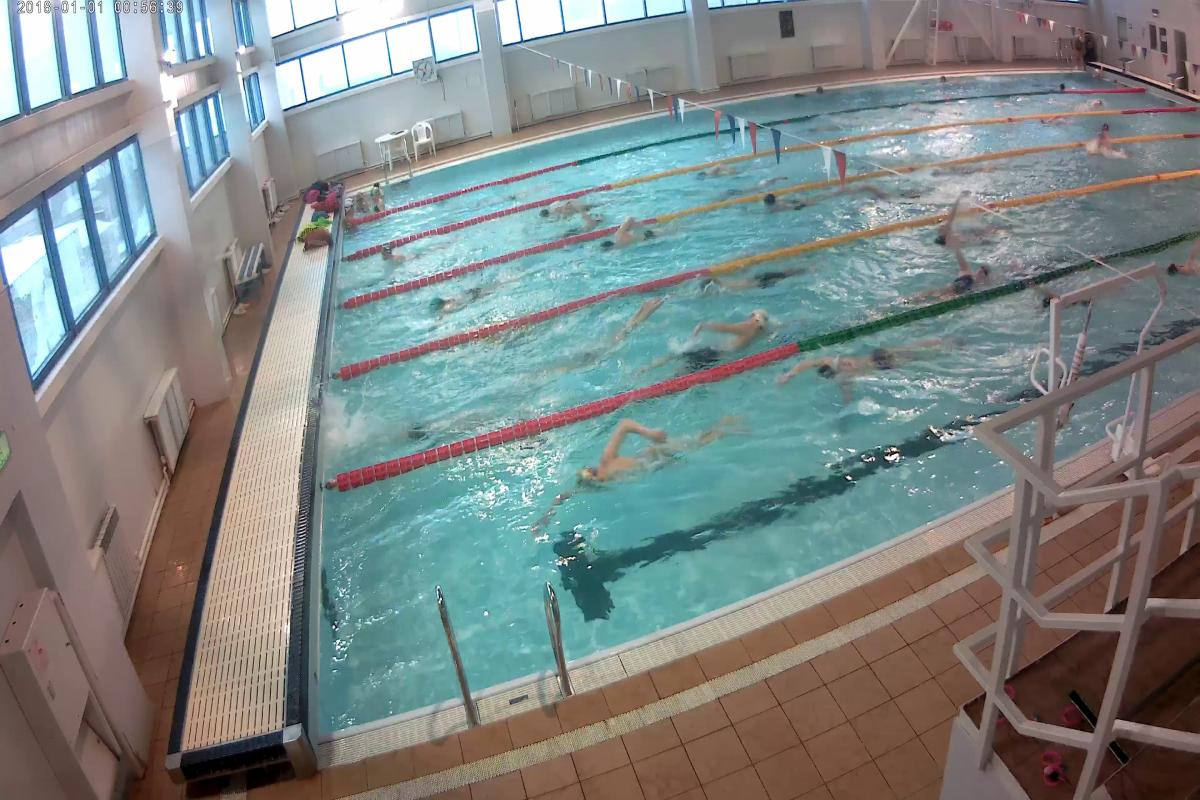swimmer: (556, 411, 754, 503), (794, 338, 943, 397), (670, 307, 781, 374), (930, 259, 998, 305), (602, 216, 666, 260), (751, 190, 841, 219), (1074, 121, 1130, 156), (377, 236, 411, 275), (559, 209, 608, 235), (1169, 239, 1200, 279)
